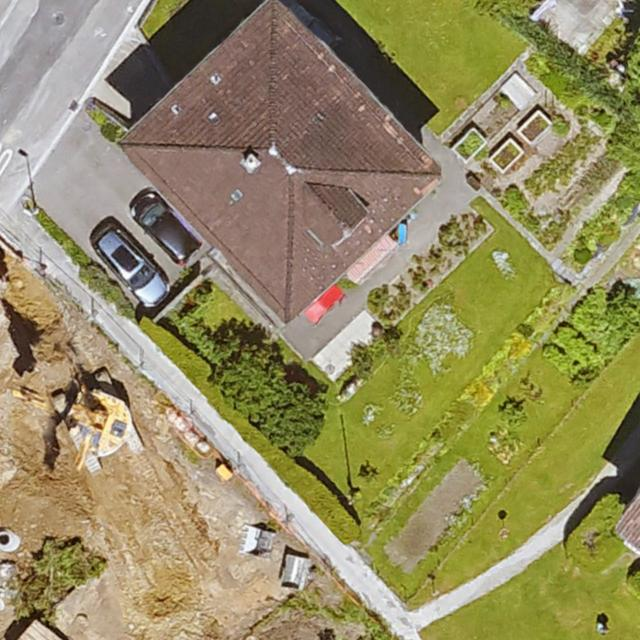tree: (607, 12, 640, 196), (216, 343, 283, 411), (261, 382, 325, 453), (547, 328, 602, 381)
